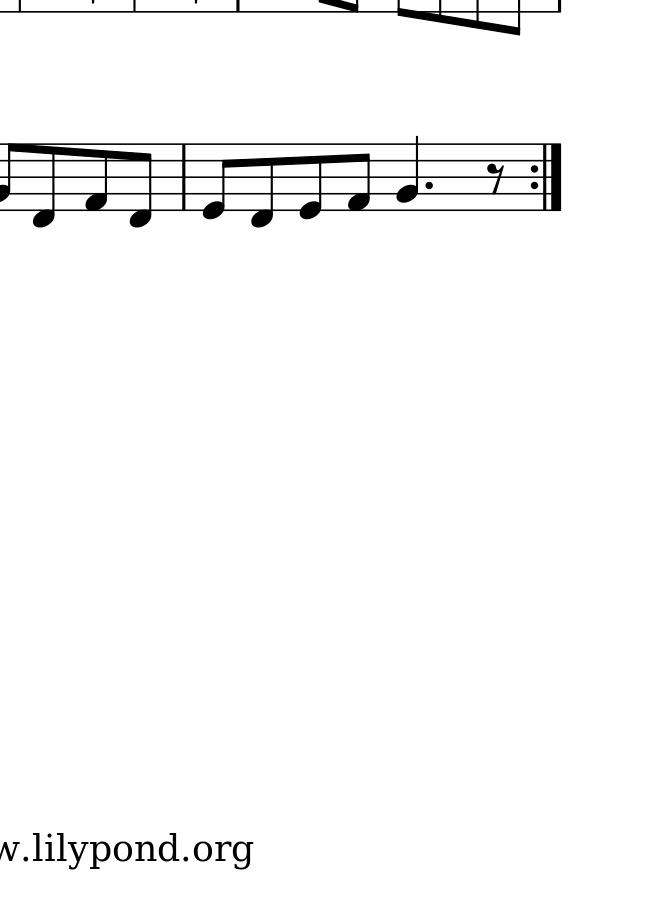4_2: (395, 134, 422, 213)
8_-1: (248, 141, 277, 229), (126, 141, 153, 230), (32, 141, 58, 231)
8_0: (200, 141, 235, 221), (298, 140, 324, 224), (82, 142, 111, 212)
8_1: (344, 141, 373, 214)
Rests8: (485, 162, 505, 195)
RightRepeatSign: (529, 143, 564, 210)
Single_barline: (176, 143, 191, 210)
dot: (425, 180, 435, 191)
